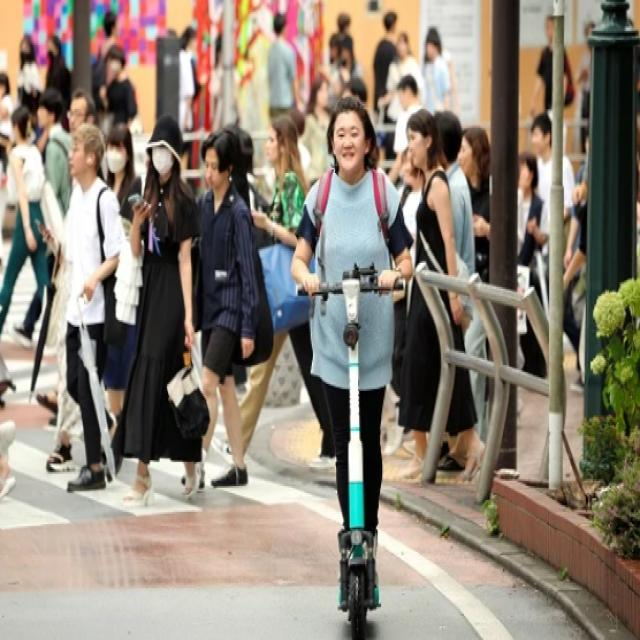non-helmet: (286, 96, 426, 640)
